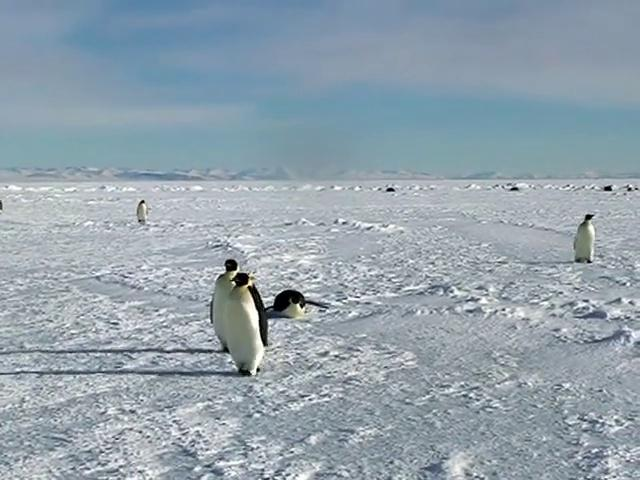animal: (267, 290, 330, 319)
